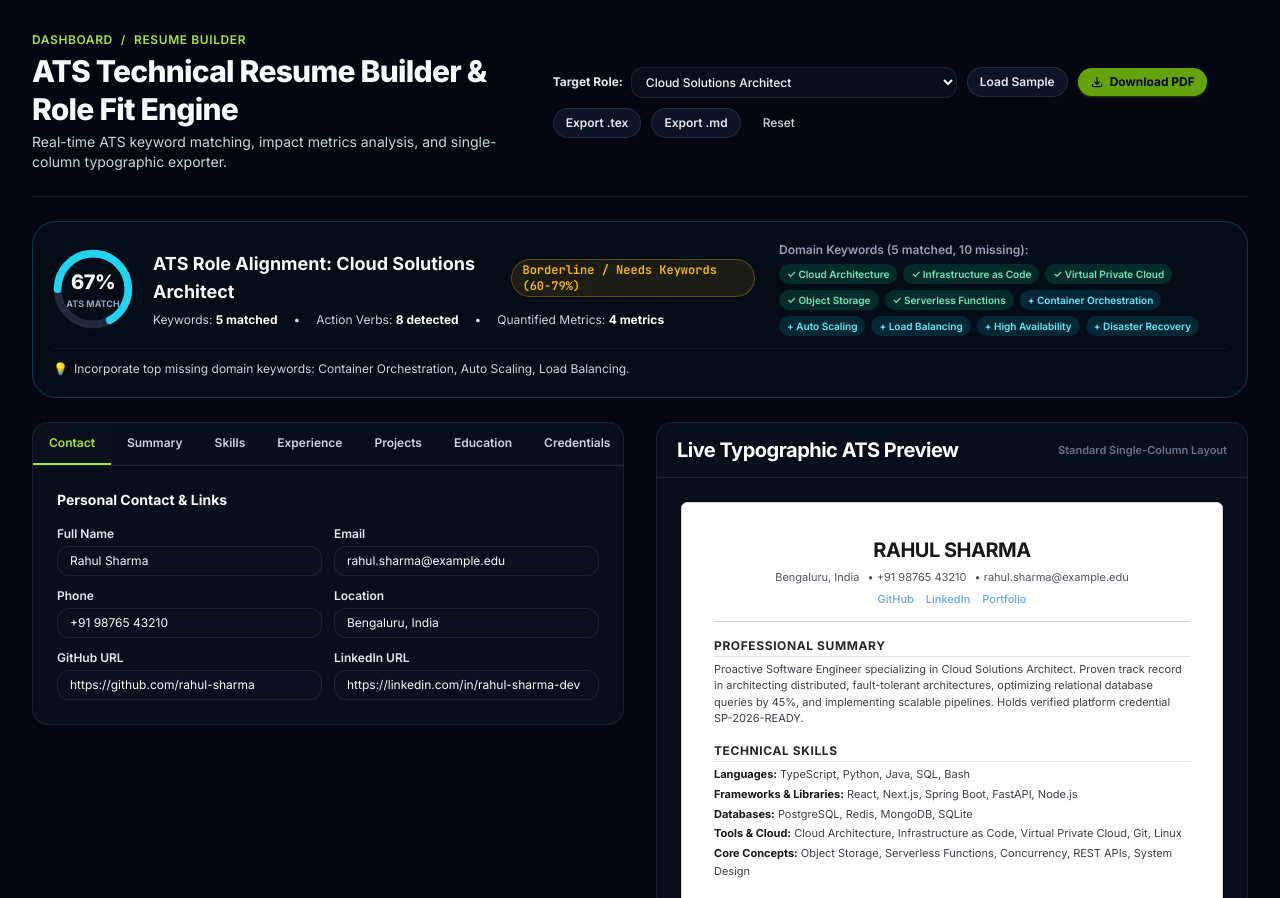
Test case: ResumeBuilderPage › switches editor tabs and renders specific section inputs
The width and height of the screenshot is (1280, 898).
Switch to Summary tab
Step 1. Click the button "summary" → (155, 444), box x1=111 y1=423 x2=199 y2=465
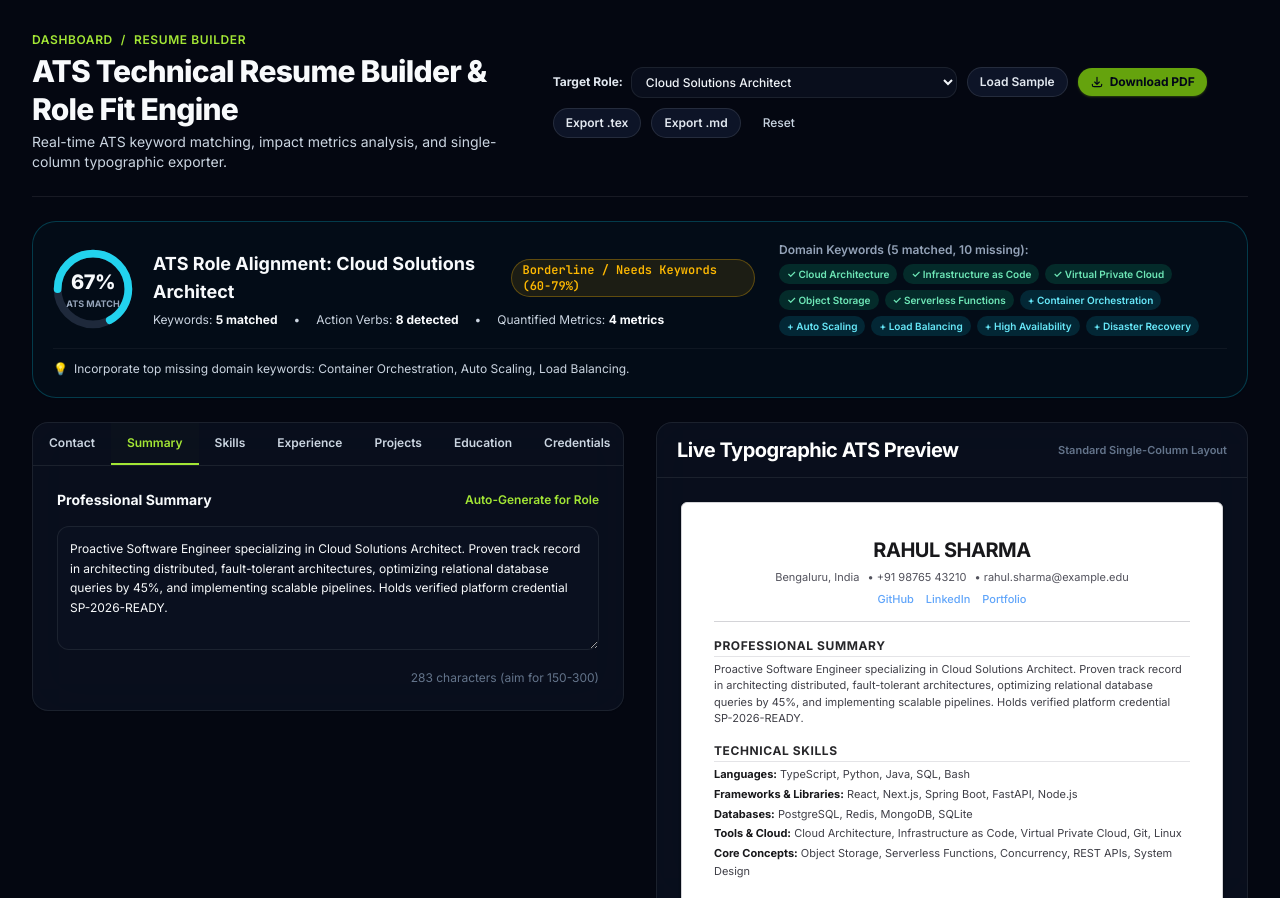
Now the text box named "Professional Summary" is shown, box x1=57 y1=526 x2=599 y2=650
Switch to Skills tab
Step 2. Click the button "skills" → (230, 444), box x1=199 y1=423 x2=261 y2=465
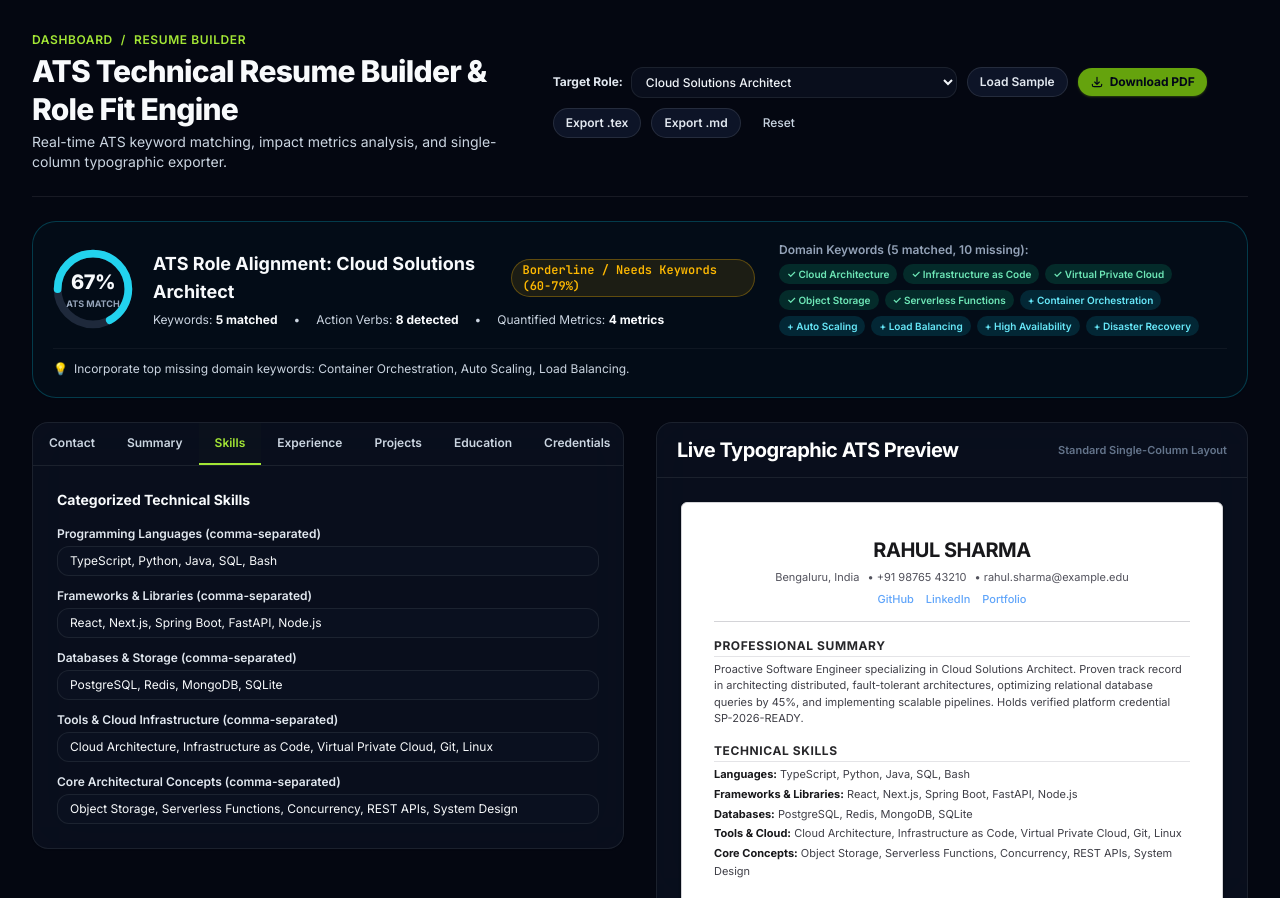
Now the field named "Programming Languages" is shown, box x1=57 y1=546 x2=599 y2=576
Switch to Experience tab
Step 3. Click the button "experience" → (310, 444), box x1=261 y1=423 x2=358 y2=465
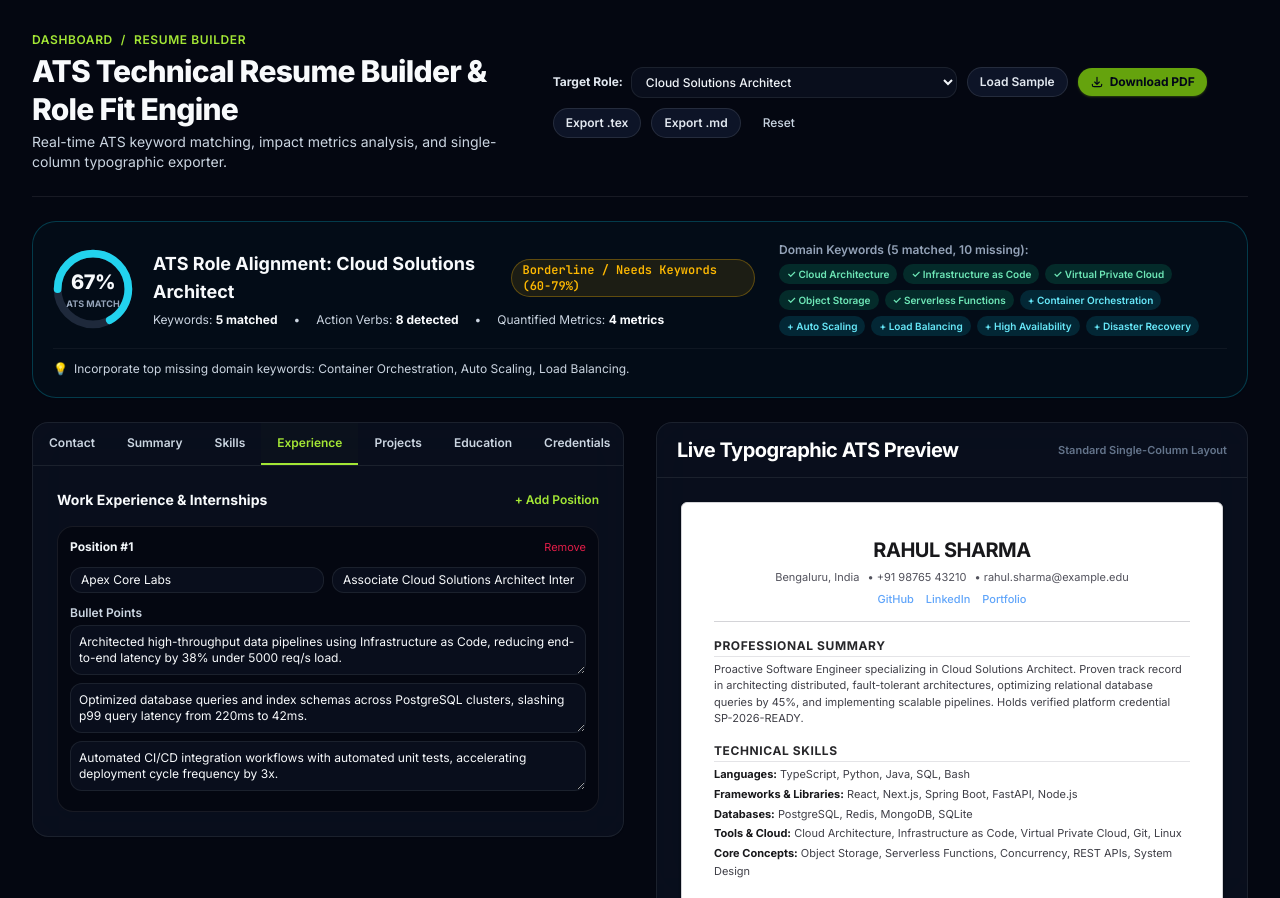
Now the button "+ Add Position" is shown, box x1=515 y1=492 x2=599 y2=508
Switch to Projects tab
Step 4. Click the button "projects" → (398, 444), box x1=358 y1=423 x2=438 y2=465
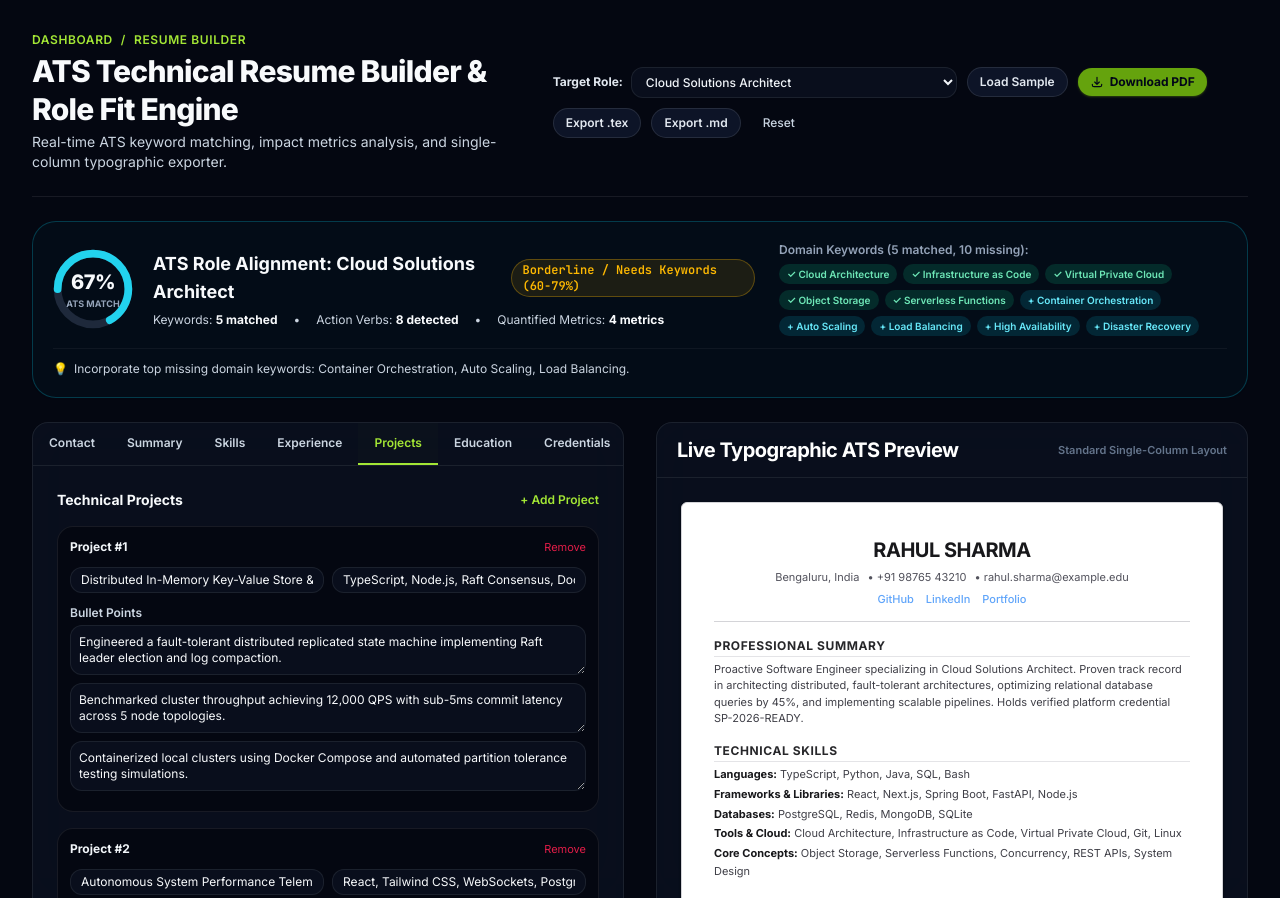
Now the button "+ Add Project" is shown, box x1=520 y1=492 x2=599 y2=508
